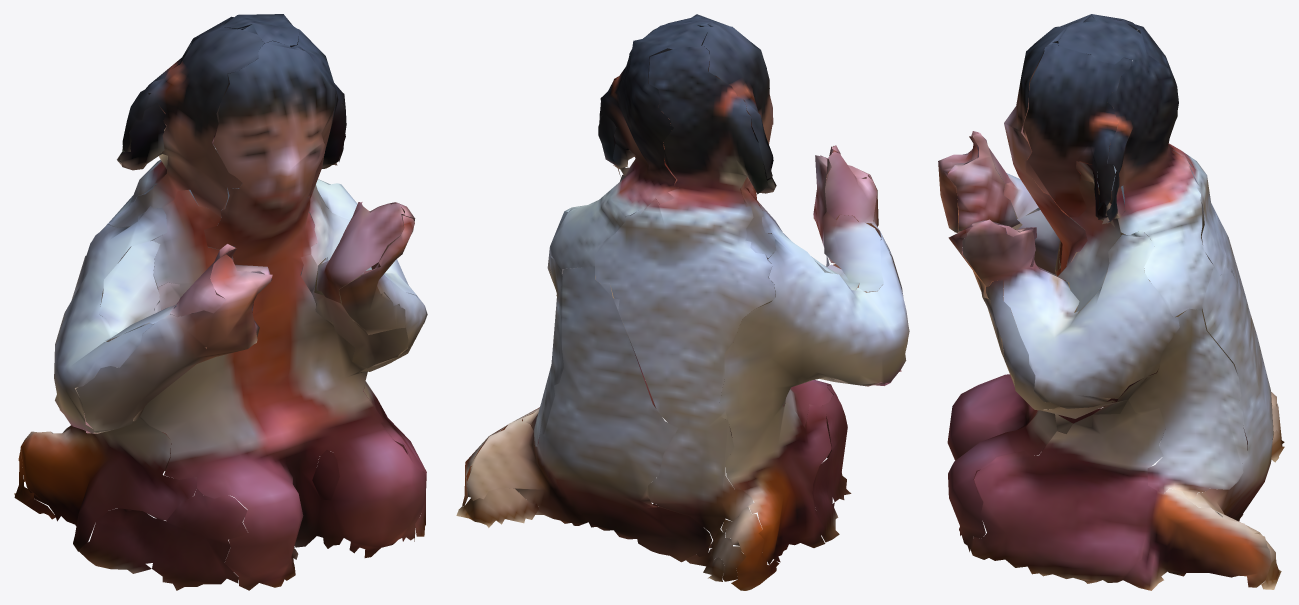
File: dollB.glb
The picture shows the model from 3 angles, left to right: view 1: azimuth 30°, elevation 25°; view 2: azimuth 150°, elevation 25°; view 3: azimuth 270°, elevation 25°; orthographic projection. The views are drawn at different scales.
Visible parts, largest first — view 1: Geom; view 2: Geom; view 3: Geom.
Boxes of the visible parts, left/top/right/bottom form: Geom: left=14, top=14, right=427, bottom=590; Geom: left=456, top=14, right=909, bottom=590; Geom: left=938, top=14, right=1284, bottom=590.
Size of the model in its own units: 0.0476 by 0.0615 by 0.0389.
Materials: 1 (1 with a texture image).
